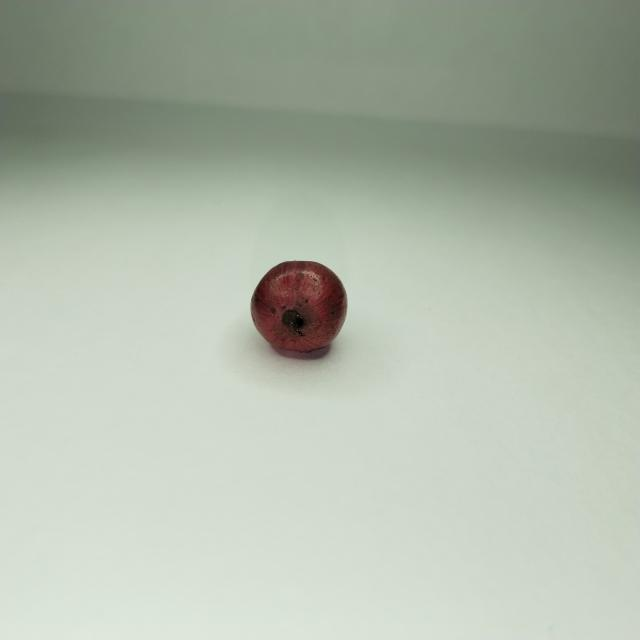Infectado: (251, 261, 346, 356)
